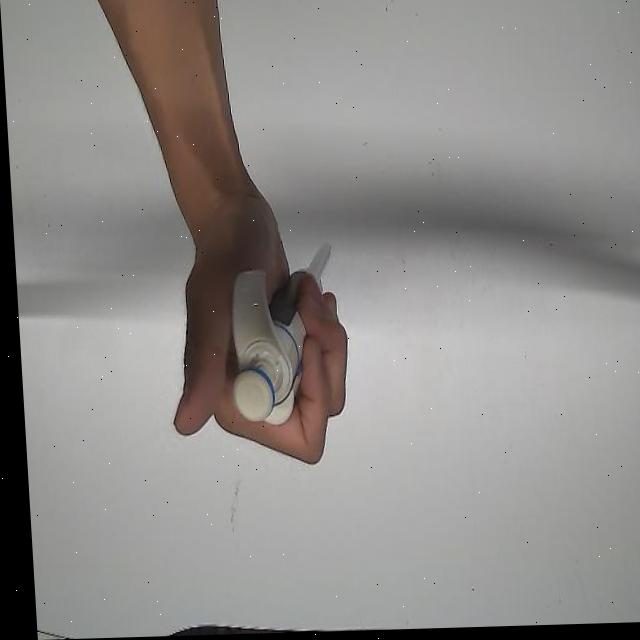Single Channel Pipettor: (218, 239, 343, 431)
